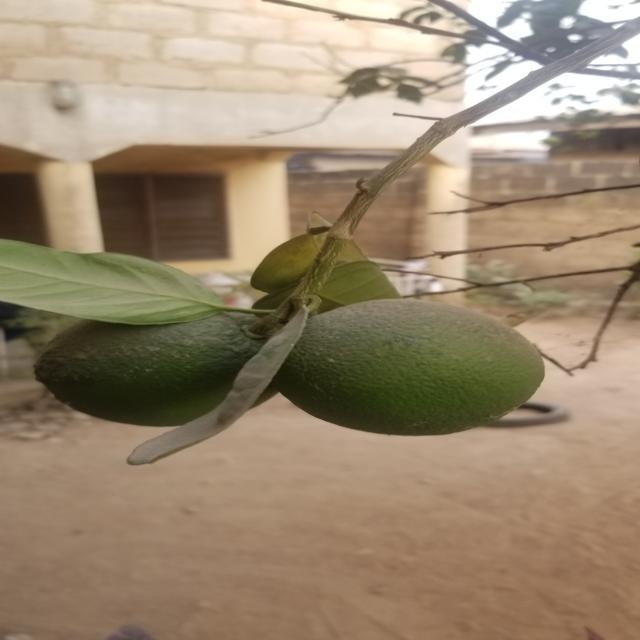agrume: (288, 287, 536, 440), (36, 303, 264, 422)
